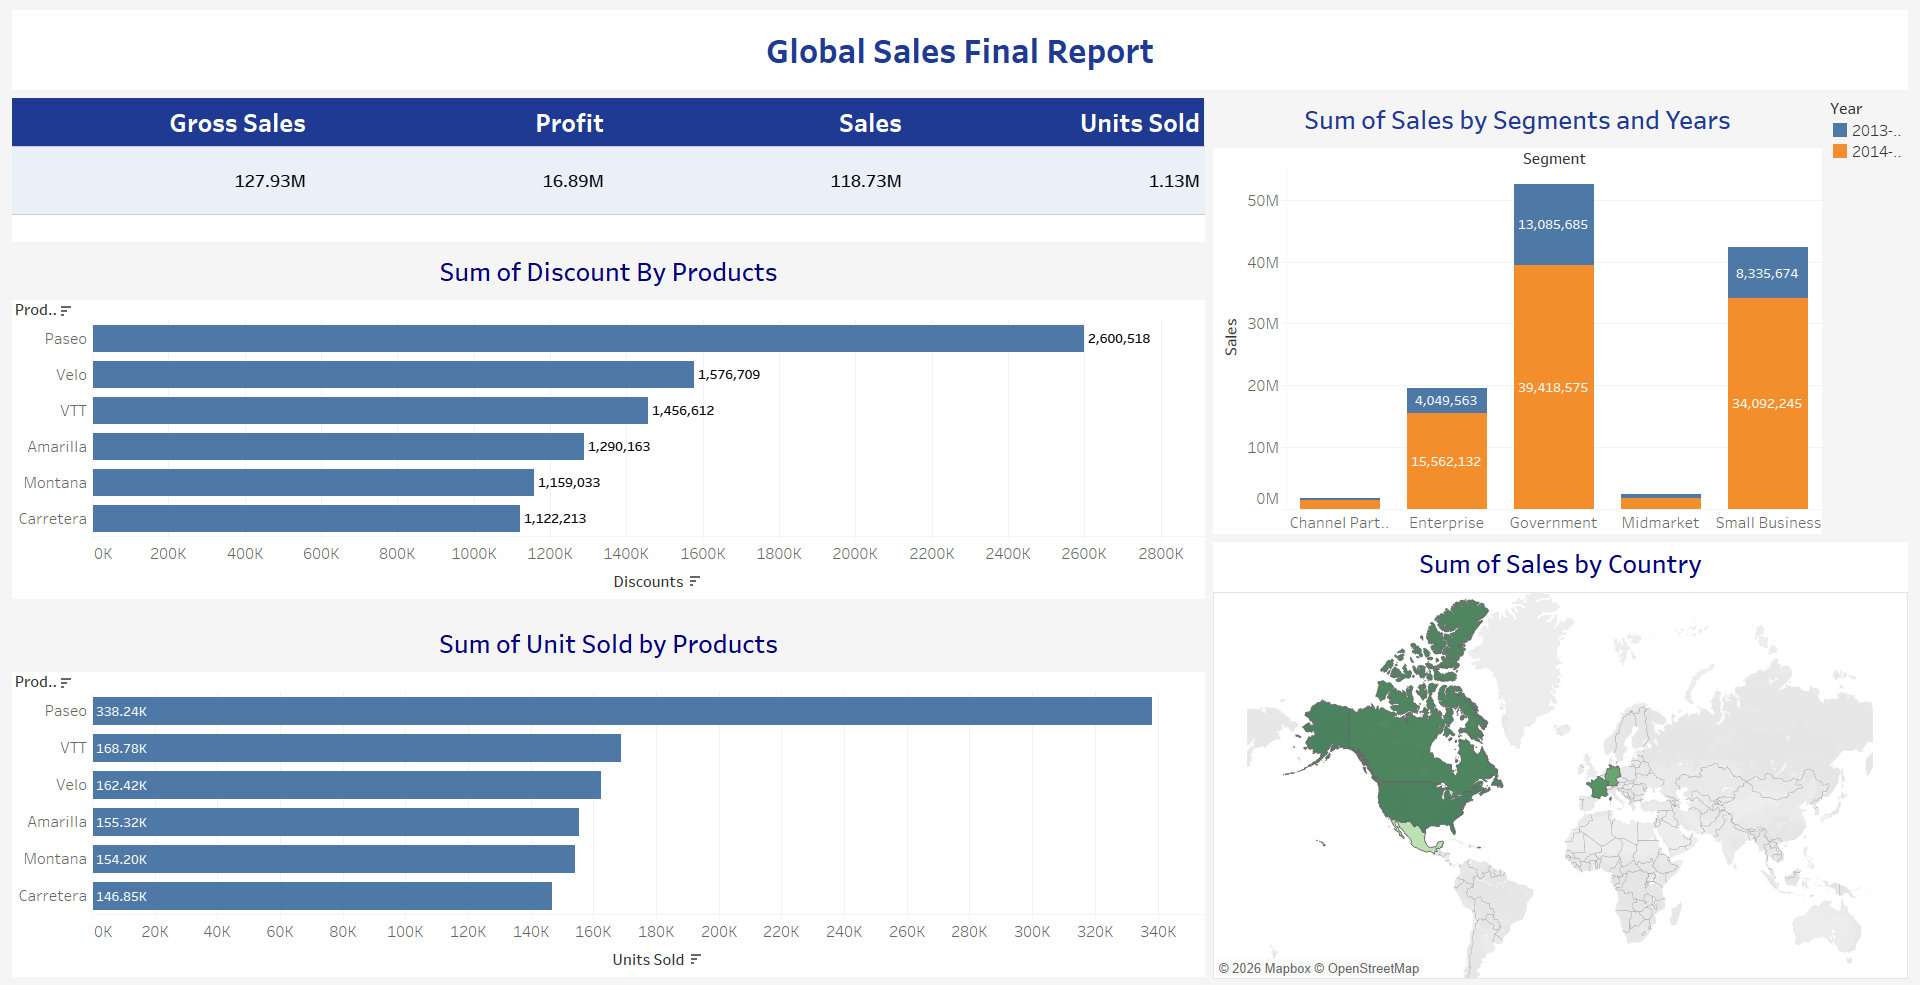

This screenshot's page, from the dashboard's own definition file:
{"tool":"tableau","page":{"name":"Global Sales Final Report ","canvas":[1000,1000],"units":"permille","ordinal":0},"visuals":[{"type":"title","box":[4.8,10,990.3,109.9]},{"type":"worksheet","title":"Gross Sales, Total Sales, Total Profit, Total Unit Sold","mark":"Text","box":[4.8,119.9,624.9,148.5]},{"type":"worksheet","title":"Sum of Sales by Segments and Years","mark":"Bar","rows":["Sales"],"cols":["Segment"],"box":[629.7,119.9,320.9,435]},{"type":"legend","title":"Sum of Sales by Segments and Years","param":"[federated.1vo6avo1uofc7j1gvfylo0j2k8wy].[none:Year:nk]","box":[950.6,119.9,44.5,89.9]},{"type":"worksheet","title":"Sum of Discount By Products","mark":"Automatic","rows":["Product"],"cols":["Discounts"],"box":[4.8,268.4,624.9,364.6]},{"type":"worksheet","title":"Sum of Sales by Country","mark":"Multipolygon","box":[629.7,554.9,365.5,435.1]},{"type":"worksheet","title":"Sum of Unit Sold by Products","mark":"Automatic","rows":["Product"],"cols":["Units Sold"],"box":[4.8,632.9,624.9,357.1]}]}

Visuals, with their boxes on the dashboard's canvas, which has no fixed pixel size, in thousandths of its width and height (x1, y1, x2, y2). These are canvas units, not pixel positions in the 1920x985 screenshot, which may show the page scaled, cropped or inside an application window:
title: {"left": 5, "top": 10, "right": 995, "bottom": 120}
"Gross Sales, Total Sales, Total Profit, Total Unit Sold" worksheet (Text marks): {"left": 5, "top": 120, "right": 630, "bottom": 268}
"Sum of Sales by Segments and Years" worksheet (Bar marks): {"left": 630, "top": 120, "right": 951, "bottom": 555}
"Sum of Sales by Segments and Years" legend: {"left": 951, "top": 120, "right": 995, "bottom": 210}
"Sum of Discount By Products" worksheet: {"left": 5, "top": 268, "right": 630, "bottom": 633}
"Sum of Sales by Country" worksheet (Multipolygon marks): {"left": 630, "top": 555, "right": 995, "bottom": 990}
"Sum of Unit Sold by Products" worksheet: {"left": 5, "top": 633, "right": 630, "bottom": 990}
